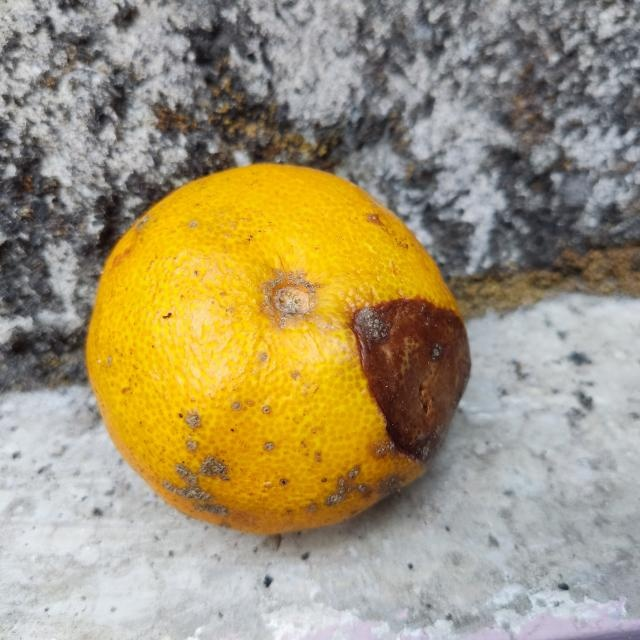agrume: (83, 163, 473, 536)
